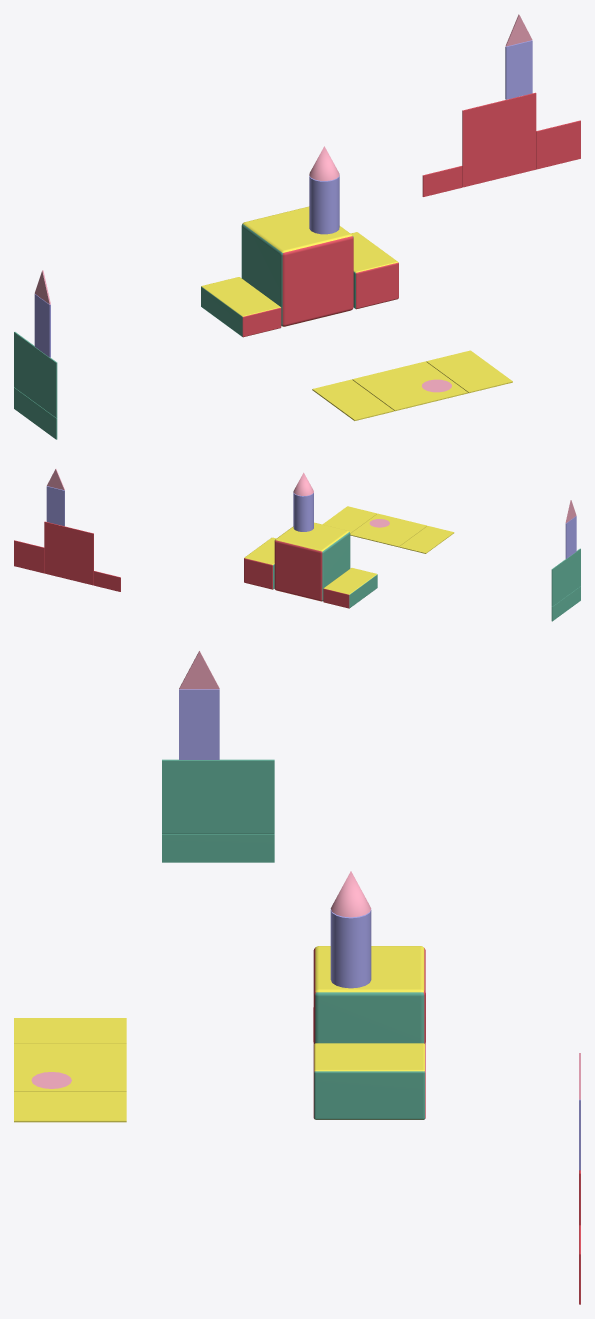
Rendered from shapes_asses.glb.
3 views of the same model, one above another, from view 1: azimuth 30°, elevation 25°; view 2: azimuth 150°, elevation 25°; view 3: azimuth 270°, elevation 25° (orthographic). The views are drawn at different scales.
Visible parts, largest first — view 1: cube1, polySurface28, rectangular_prism1, polySurface12, rectangular_prism2, polySurface34, rectangular_prism_base2, rectangular_prism_base1, polySurface29, cylinder, polySurface31, polySurface33 (+3 smaller); view 2: cube1, polySurface28, rectangular_prism1, polySurface12, rectangular_prism2, polySurface34, polySurface29, rectangular_prism_base1, rectangular_prism_base2, cylinder, polySurface31, polySurface33 (+3 smaller); view 3: cube1, rectangular_prism2, polySurface34, polySurface12, rectangular_prism_base2, polySurface33, cylinder, rectangular_prism_base1, polySurface25, cone, polySurface26.
Boxes of the visible parts, box(x1,y1,x2,y2) form: cube1: box(241, 206, 353, 326); polySurface28: box(462, 92, 536, 187); rectangular_prism1: box(201, 277, 281, 337); polySurface12: box(352, 361, 467, 411); rectangular_prism2: box(351, 232, 398, 309); polySurface34: box(14, 332, 57, 417); rectangular_prism_base2: box(426, 350, 512, 393); rectangular_prism_base1: box(312, 379, 393, 420); polySurface29: box(536, 120, 580, 169); cylinder: box(309, 174, 339, 234); polySurface31: box(505, 40, 532, 99); polySurface33: box(14, 387, 57, 439); cube1: box(274, 522, 350, 601); polySurface28: box(44, 521, 93, 585); rectangular_prism1: box(323, 568, 377, 608); polySurface12: box(350, 513, 426, 547); rectangular_prism2: box(244, 537, 276, 589); polySurface34: box(551, 548, 580, 606); polySurface29: box(14, 540, 44, 573); rectangular_prism_base1: box(399, 526, 454, 553); rectangular_prism_base2: box(322, 506, 377, 533); cylinder: box(293, 492, 313, 531); polySurface31: box(46, 486, 64, 526); polySurface33: box(551, 586, 580, 621); cube1: box(313, 946, 425, 1044); rectangular_prism2: box(313, 1043, 425, 1119); polySurface34: box(162, 759, 274, 833); polySurface12: box(14, 1044, 126, 1091); rectangular_prism_base2: box(14, 1092, 126, 1122); polySurface33: box(162, 834, 274, 862); cylinder: box(330, 909, 371, 988); rectangular_prism_base1: box(14, 1018, 126, 1043); polySurface25: box(179, 689, 219, 759); cone: box(330, 871, 371, 917); polySurface26: box(179, 651, 219, 689).
Bounding box in the file's own units: 0.2807 × 0.0626 × 0.152.
